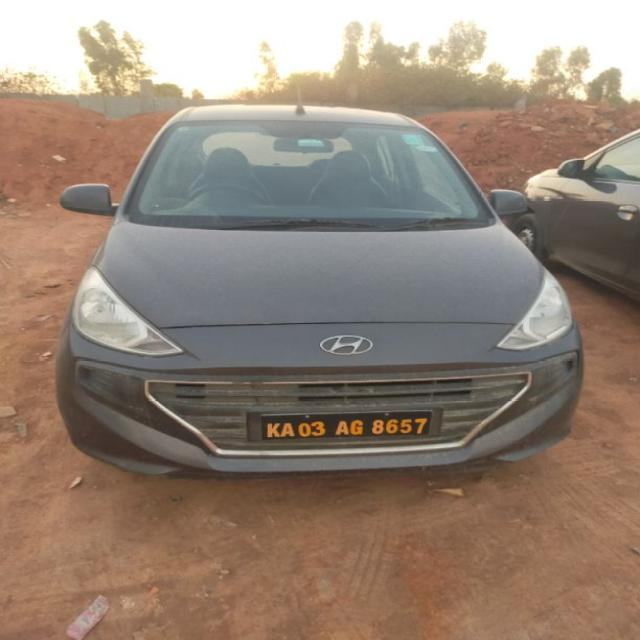license_plate: (245, 407, 442, 442)
